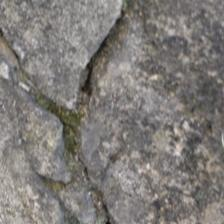Crack: (0, 23, 171, 117), (13, 4, 124, 69)
